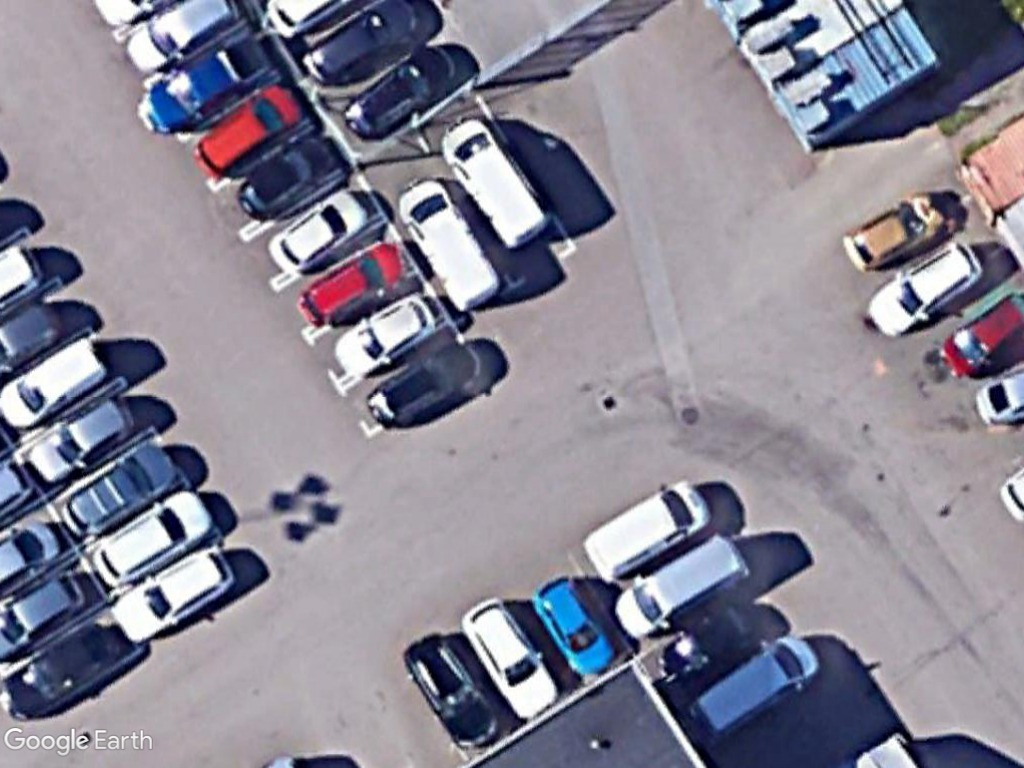car: (339, 34, 462, 147), (90, 482, 221, 588), (106, 542, 237, 646), (401, 628, 509, 754), (57, 431, 183, 539), (367, 334, 489, 441), (6, 613, 122, 724), (866, 238, 992, 340), (461, 596, 560, 723), (294, 235, 412, 337), (24, 386, 137, 487), (191, 82, 306, 180), (263, 180, 371, 282), (525, 571, 620, 680), (331, 288, 435, 385), (235, 131, 341, 225)
van: (613, 530, 758, 646), (389, 172, 502, 314), (438, 114, 551, 251), (687, 628, 821, 740), (578, 472, 714, 582), (0, 326, 107, 429)
